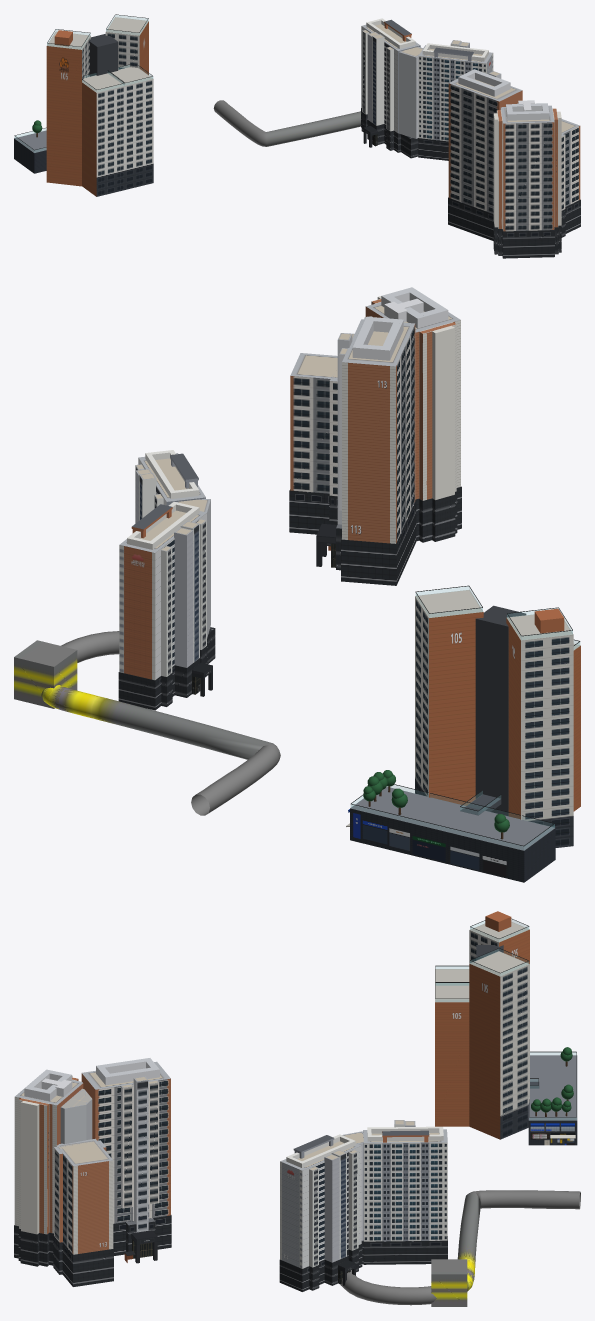
3 renders of one model, top to bottom at view 1: azimuth 30°, elevation 25°; view 2: azimuth 150°, elevation 25°; view 3: azimuth 270°, elevation 25°, orthographic. The views are drawn at different scales.
Visible parts, largest first — view 1: KumhoParkHills_113, KumhoParkHills_114, Wing_118_7_West, Wing_86_9_West, Wing_86_9_East, 베지어커브, Wing_118_7_East, North_Commercial_Building_Emart24, KumhoParkHills_105_Complex; view 2: KumhoParkHills_113, KumhoParkHills_114, Wing_118_7_West, North_Commercial_Building_Emart24, Wing_118_7_East, 베지어커브, KumhoParkHills_105_Complex, Wing_86_9_West; view 3: KumhoParkHills_113, KumhoParkHills_114, Wing_118_7_East, 베지어커브, Wing_86_9_East, North_Commercial_Building_Emart24, Wing_118_7_West, Dong113_PhotoMatched_Entrance, Wing_86_9_West.
Boxes of the visible parts, left/top/right/bottom form: KumhoParkHills_113: left=448, top=69, right=580, bottom=258; KumhoParkHills_114: left=361, top=18, right=493, bottom=160; Wing_118_7_West: left=46, top=29, right=90, bottom=186; Wing_86_9_West: left=82, top=70, right=125, bottom=196; Wing_86_9_East: left=108, top=64, right=153, bottom=189; 베지어커브: left=213, top=100, right=360, bottom=146; Wing_118_7_East: left=105, top=14, right=148, bottom=74; North_Commercial_Building_Emart24: left=14, top=120, right=46, bottom=173; KumhoParkHills_105_Complex: left=89, top=34, right=118, bottom=76; KumhoParkHills_113: left=289, top=287, right=461, bottom=585; KumhoParkHills_114: left=118, top=450, right=215, bottom=710; Wing_118_7_West: left=506, top=607, right=573, bottom=847; North_Commercial_Building_Emart24: left=346, top=770, right=555, bottom=882; Wing_118_7_East: left=415, top=585, right=483, bottom=805; 베지어커브: left=14, top=631, right=280, bottom=815; KumhoParkHills_105_Complex: left=475, top=605, right=526, bottom=816; Wing_86_9_West: left=573, top=639, right=580, bottom=811; KumhoParkHills_113: left=14, top=1058, right=171, bottom=1286; KumhoParkHills_114: left=279, top=1120, right=447, bottom=1291; Wing_118_7_East: left=469, top=948, right=529, bottom=1139; 베지어커브: left=340, top=1190, right=580, bottom=1306; Wing_86_9_East: left=435, top=982, right=469, bottom=1126; North_Commercial_Building_Emart24: left=528, top=1047, right=577, bottom=1145; Wing_118_7_West: left=469, top=911, right=529, bottom=963; Dong113_PhotoMatched_Entrance: left=124, top=1230, right=157, bottom=1263; Wing_86_9_West: left=435, top=965, right=469, bottom=985.
Size of the model in its own units: 29.21 by 11.41 by 31.71.
Materials: 72 (38 with a texture image).
